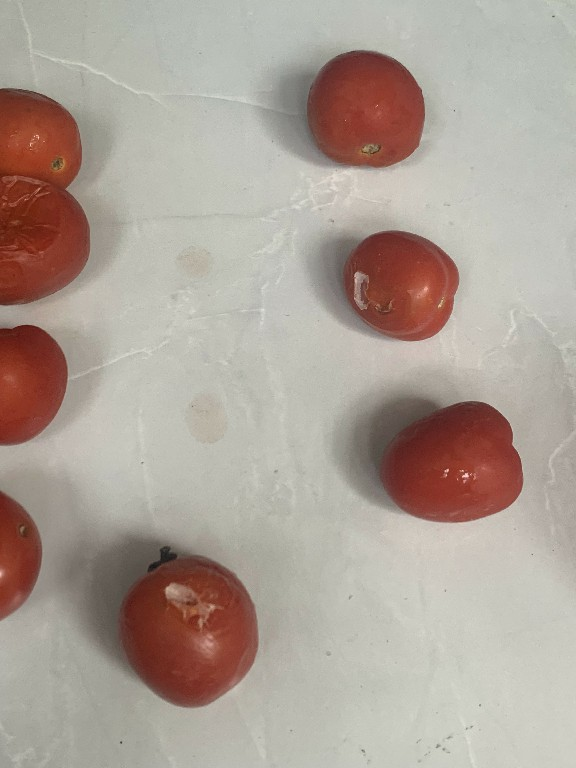NG: (109, 545, 264, 712), (331, 223, 463, 353), (0, 164, 95, 315)
OK: (370, 394, 541, 538), (299, 41, 441, 174)
